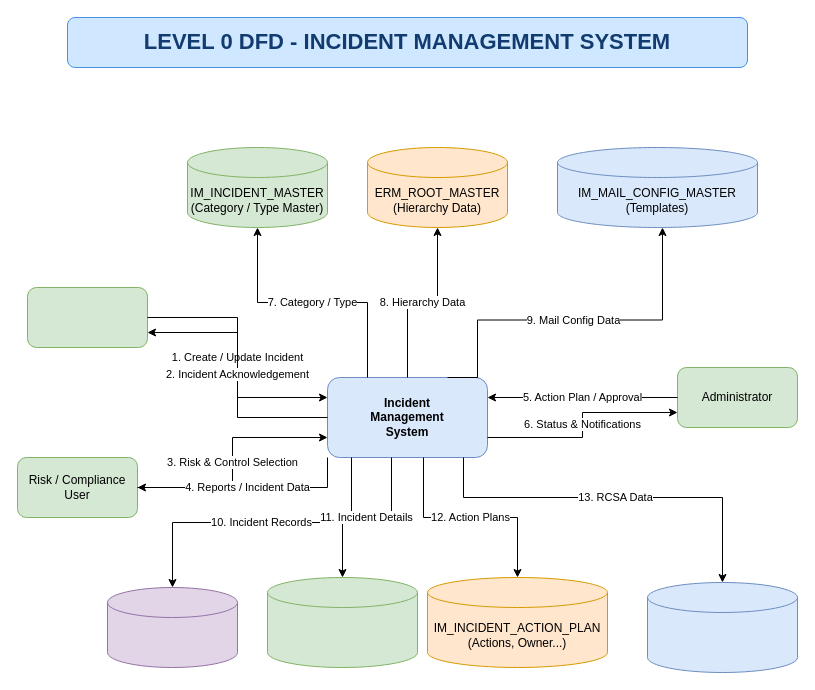
The diagram is 815 pixels wide and 690 high, and some of its shapes have lost their labels. The box of each missing label's shape, as (x1, y1, x2, y2) in pixels:
Business User / Incident Reporter: (26, 286, 148, 348)
IM_INCIDENT (Incident Header): (106, 586, 238, 668)
IM_INCIDENT_DETAILS (Details, Employees...): (266, 576, 418, 668)
RCSA_MASTER (RiskStatement...): (646, 582, 798, 672)
